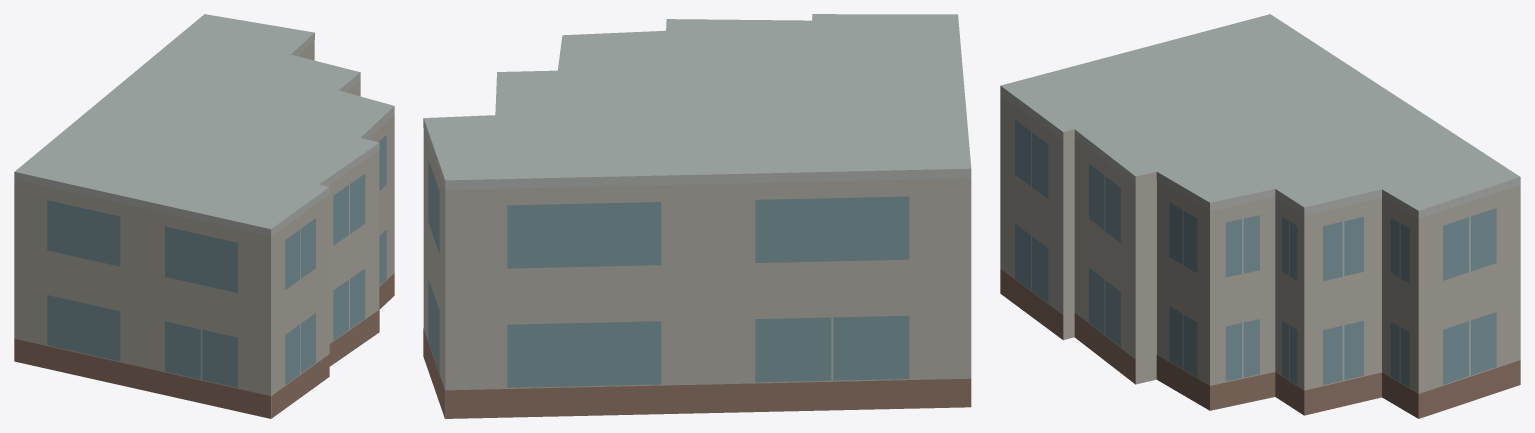
File: survey-upis-32650253.glb
3 views of the same model, side by side, from view 1: azimuth 30°, elevation 25°; view 2: azimuth 150°, elevation 25°; view 3: azimuth 270°, elevation 25° (orthographic). The views are drawn at different scales.
Visible parts, largest first — view 1: survey-upis-32650253.tmp; view 2: survey-upis-32650253.tmp; view 3: survey-upis-32650253.tmp.
Boxes of the visible parts, x1,y1,x2,y2 form: survey-upis-32650253.tmp: [14, 14, 394, 418]; survey-upis-32650253.tmp: [423, 14, 971, 418]; survey-upis-32650253.tmp: [1000, 14, 1520, 418].
Size of the model in its own units: 12.39 by 6.1 by 13.84.
